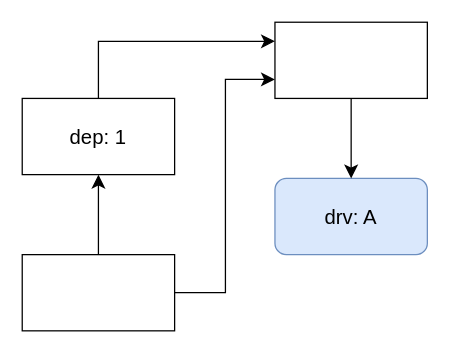
Some shapes in this 450 by 353 pixel diagram are drawn without their labels. Here are the shapes that lost their labels. From the top down, the centre of each, then its label:
At (350,59): "dep: 0".
At (98,292): "dep: 2".
